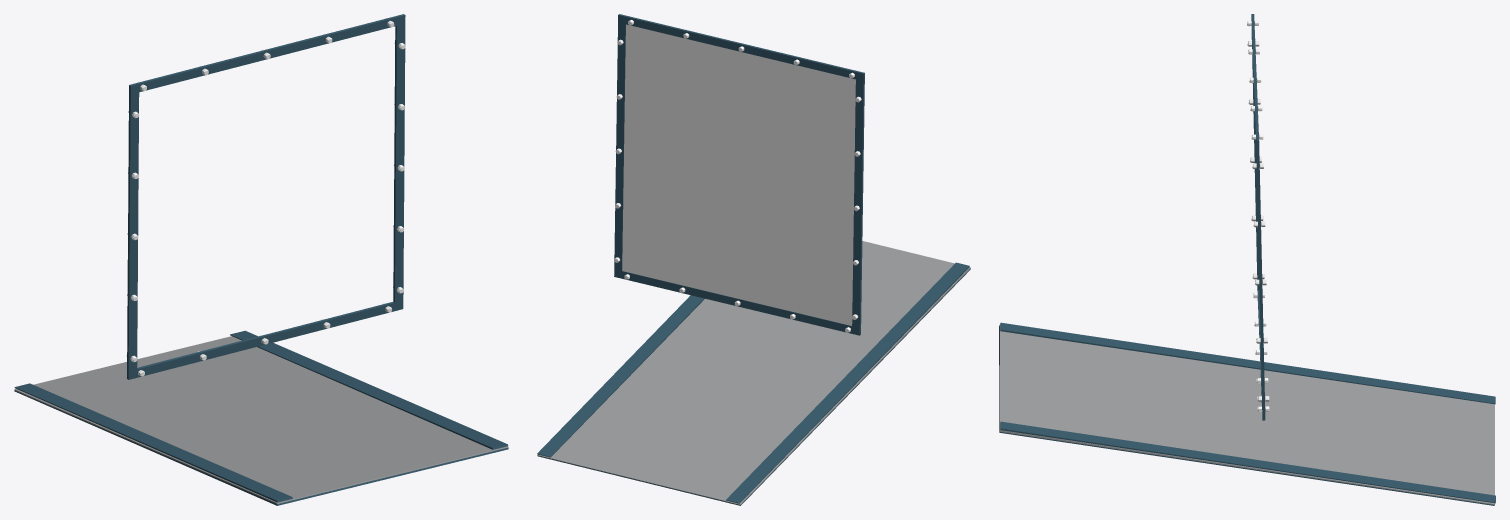
3 renders of one model, left to right at view 1: azimuth 30°, elevation 25°; view 2: azimuth 150°, elevation 25°; view 3: azimuth 270°, elevation 25°, orthographic. The views are drawn at different scales.
Visible parts, largest first — view 1: Extrude.1 (×3), seed, Extrude; view 2: Plane, Extrude.1 (×3), seed, Extrude; view 3: Extrude.1 (×3), Extrude, seed.
Boxes of the visible parts, bbox=[...] form: Extrude.1 (×3): bbox=[14, 330, 508, 505]; seed: bbox=[127, 14, 405, 379]; Extrude: bbox=[14, 383, 292, 502]; Plane: bbox=[622, 24, 855, 325]; Extrude.1 (×3): bbox=[537, 241, 970, 505]; seed: bbox=[614, 14, 864, 335]; Extrude: bbox=[726, 262, 969, 503]; Extrude.1 (×3): bbox=[999, 324, 1495, 505]; Extrude: bbox=[1000, 322, 1495, 404]; seed: bbox=[1251, 14, 1265, 420].
Size of the model in its own units: 400 by 554 by 655.
